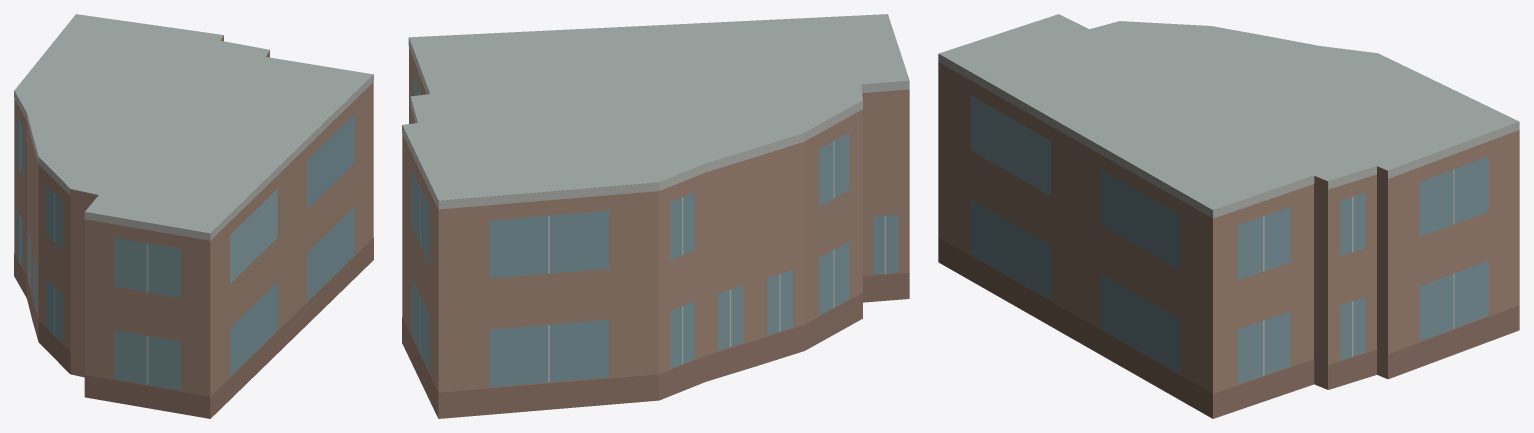
Rendered from survey-upis-32799209.glb.
3 views of the same model, side by side, from view 1: azimuth 30°, elevation 25°; view 2: azimuth 150°, elevation 25°; view 3: azimuth 270°, elevation 25° (orthographic). The views are drawn at different scales.
Parts seen in each view (by area): view 1: survey-upis-32799209.tmp; view 2: survey-upis-32799209.tmp; view 3: survey-upis-32799209.tmp.
Part boxes in pixels (x1=…): survey-upis-32799209.tmp: x1=14, y1=14, x2=373, y2=418; survey-upis-32799209.tmp: x1=402, y1=14, x2=909, y2=418; survey-upis-32799209.tmp: x1=938, y1=14, x2=1519, y2=418.
Size of the model in its own units: 12.31 by 6.1 by 15.41.
